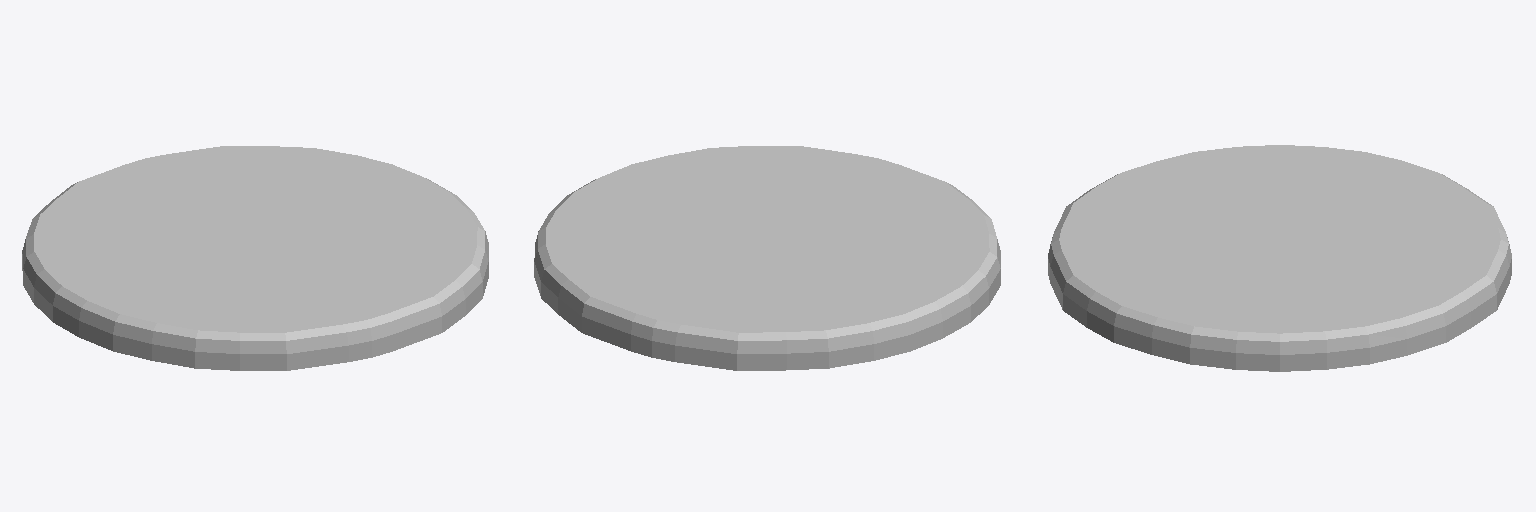
The model's file is GalletaSeis.obj.
3 renders of one model, left to right at view 1: azimuth 30°, elevation 25°; view 2: azimuth 150°, elevation 25°; view 3: azimuth 270°, elevation 25°, orthographic.
Visible parts, largest first — view 1: polySurface220 polySurface8; view 2: polySurface220 polySurface8; view 3: polySurface220 polySurface8.
Part boxes in pixels (bbox=[...]): polySurface220 polySurface8: bbox=[22, 146, 488, 370]; polySurface220 polySurface8: bbox=[534, 146, 1000, 370]; polySurface220 polySurface8: bbox=[1048, 145, 1511, 371].
Bounding box in the file's own units: 0.2226 × 0.0176 × 0.2202.